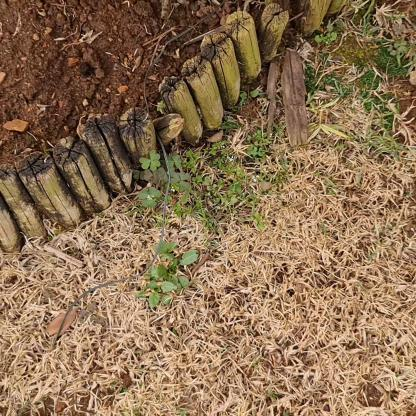Weeds: (134, 238, 202, 309), (136, 150, 190, 207)
